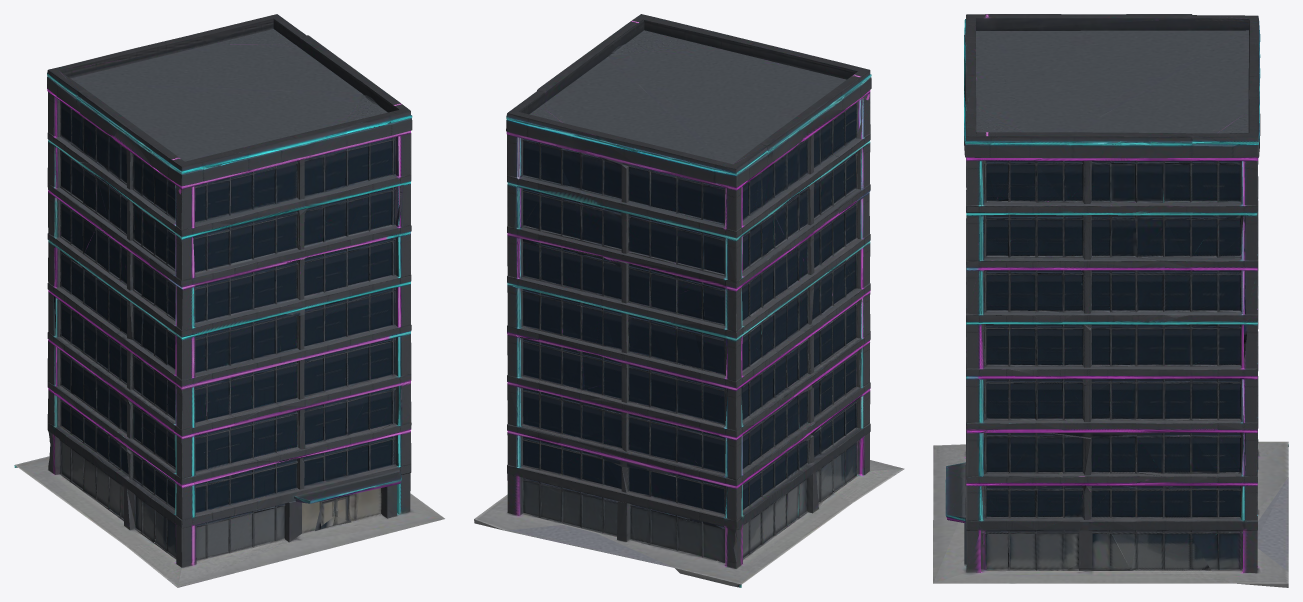
Rendered from neon-block-a.glb.
3 renders of one model, left to right at view 1: azimuth 30°, elevation 25°; view 2: azimuth 150°, elevation 25°; view 3: azimuth 270°, elevation 25°, orthographic. The views are drawn at different scales.
Parts seen in each view (by area): view 1: output_unwrapped; view 2: output_unwrapped; view 3: output_unwrapped.
Boxes of the visible parts, box(x1,y1,x2,y2) form: output_unwrapped: box(14, 14, 444, 587); output_unwrapped: box(474, 14, 904, 587); output_unwrapped: box(933, 14, 1288, 587).
Bounding box in the file's own units: 20.28 × 29.35 × 21.41.
1 material, 1 textured.
